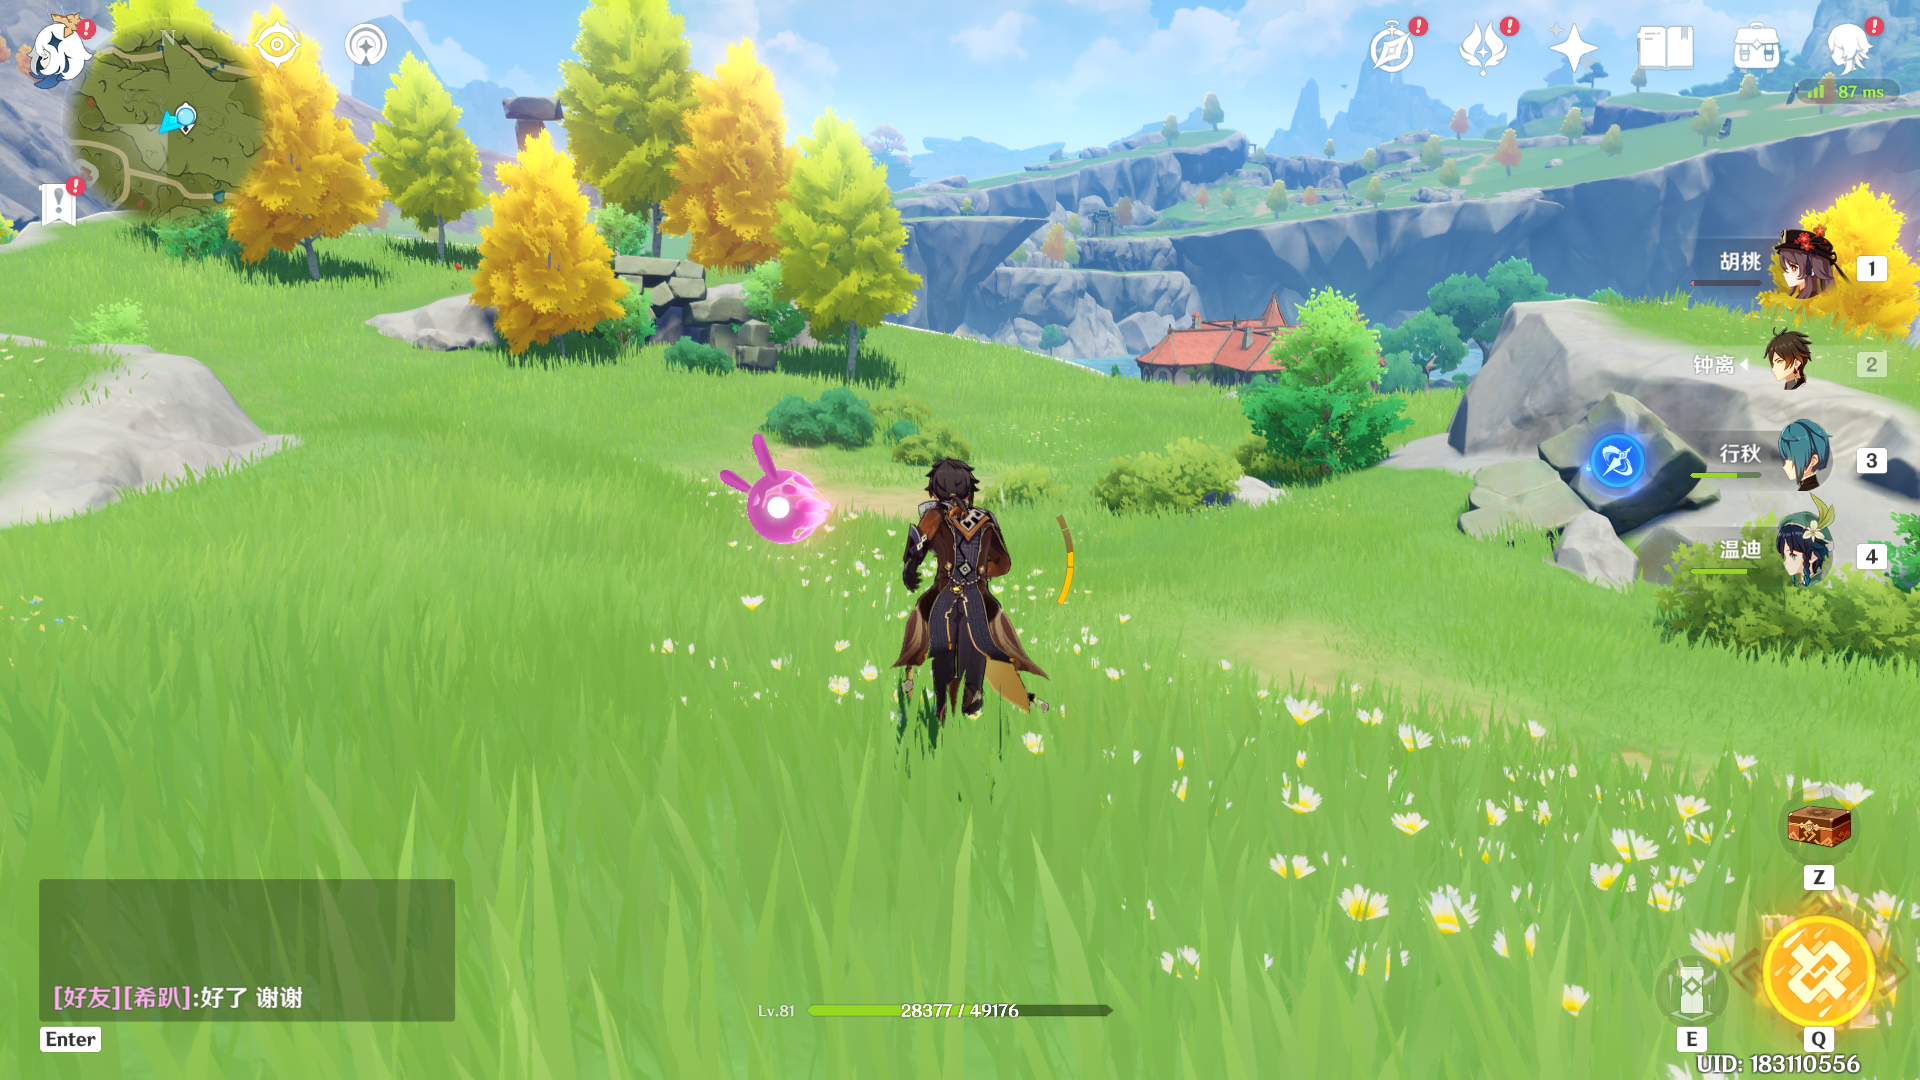character: (848, 425, 1080, 781)
